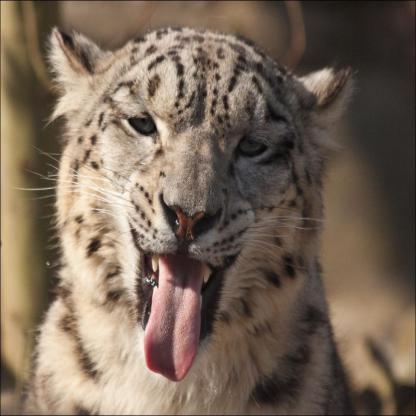leopard: (6, 36, 368, 392)
